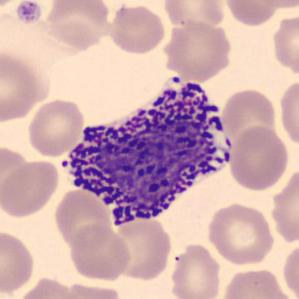Basophil: (54, 77, 240, 233)
Platelets: (14, 0, 43, 25)
RBC: (205, 201, 277, 267), (162, 18, 233, 82), (227, 123, 291, 192), (51, 185, 114, 251), (67, 222, 134, 284), (0, 48, 52, 124), (219, 86, 279, 150), (0, 158, 62, 219), (25, 98, 86, 158), (42, 0, 112, 50), (106, 1, 168, 56), (168, 241, 223, 299), (0, 228, 37, 295), (219, 266, 294, 299), (272, 171, 299, 246), (162, 0, 227, 31), (0, 145, 30, 210), (270, 11, 298, 78), (276, 76, 299, 150), (222, 0, 282, 28), (15, 275, 80, 299), (61, 281, 124, 299), (281, 240, 299, 299), (15, 0, 44, 26), (250, 0, 298, 9), (0, 0, 26, 11)
